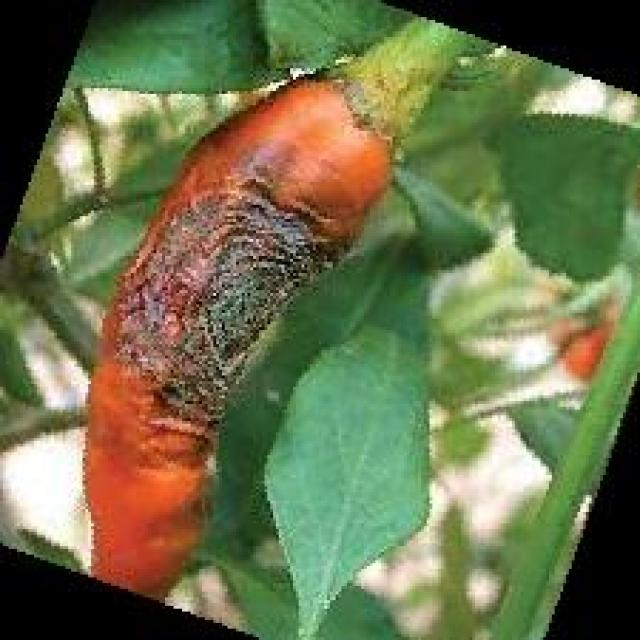Moko: (121, 87, 387, 523)
